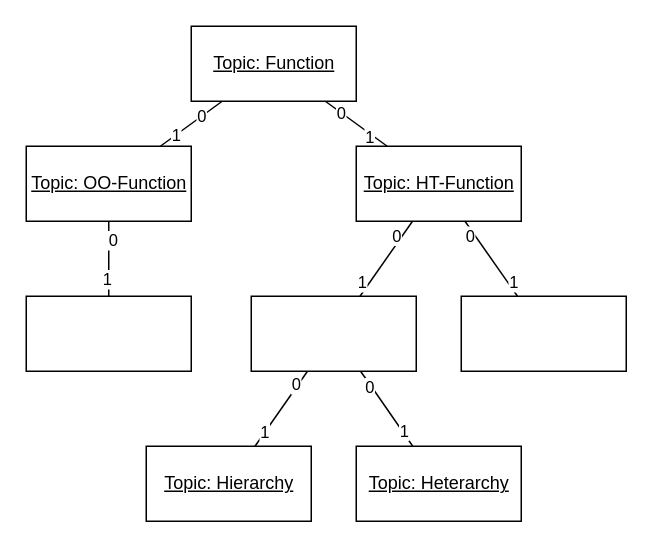
This 653x548 diagram has some shape labels left out. The centre of each missing label's shape, as x and y in pixels:
Topic: Hn: the point at 543,333
Topic: Soup: the point at 333,333
Topic: Use-Cases: the point at 108,333
